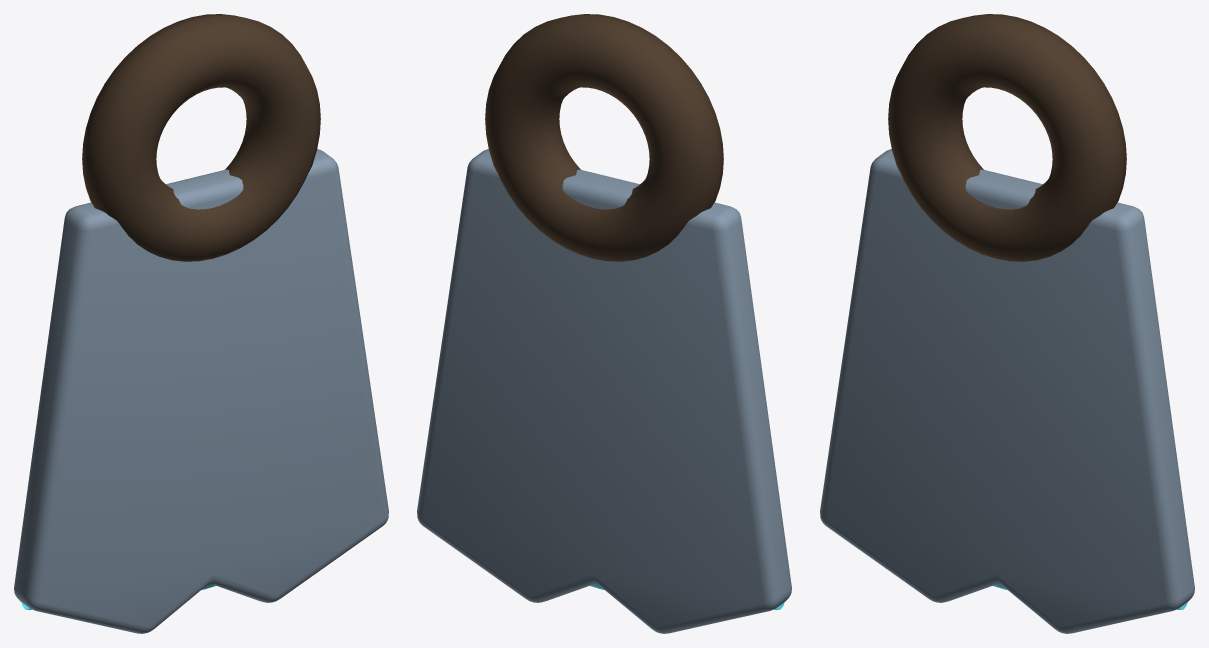
Rendered from cloak_v2.glb.
The picture shows the model from 3 angles, left to right: view 1: azimuth 30°, elevation 25°; view 2: azimuth 150°, elevation 25°; view 3: azimuth 330°, elevation 25°; orthographic projection.
Visible parts, largest first — view 1: HOODED_MANTLE_PRIMARY, HOOD_SECONDARY; view 2: HOODED_MANTLE_PRIMARY, HOOD_SECONDARY; view 3: HOODED_MANTLE_PRIMARY, HOOD_SECONDARY.
Boxes of the visible parts, x1=… form: HOODED_MANTLE_PRIMARY: x1=14, y1=149, x2=388, y2=633; HOOD_SECONDARY: x1=82, y1=14, x2=320, y2=261; HOODED_MANTLE_PRIMARY: x1=417, y1=149, x2=791, y2=633; HOOD_SECONDARY: x1=485, y1=14, x2=723, y2=261; HOODED_MANTLE_PRIMARY: x1=820, y1=149, x2=1194, y2=633; HOOD_SECONDARY: x1=888, y1=14, x2=1126, y2=261.
Size of the model in its own units: 2.02 by 3.18 by 0.36.
